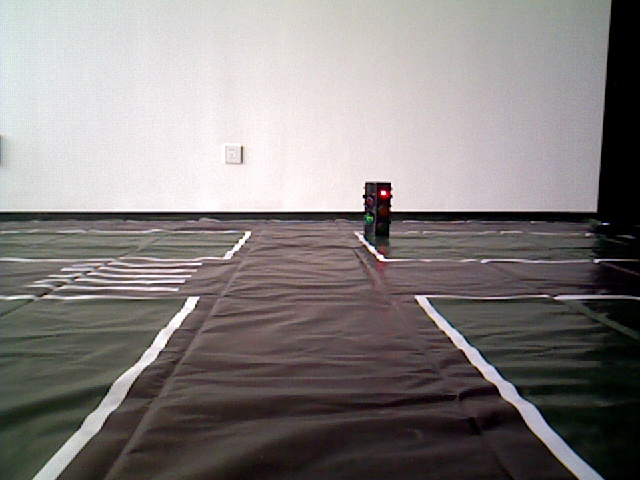red: (364, 180, 392, 243)
